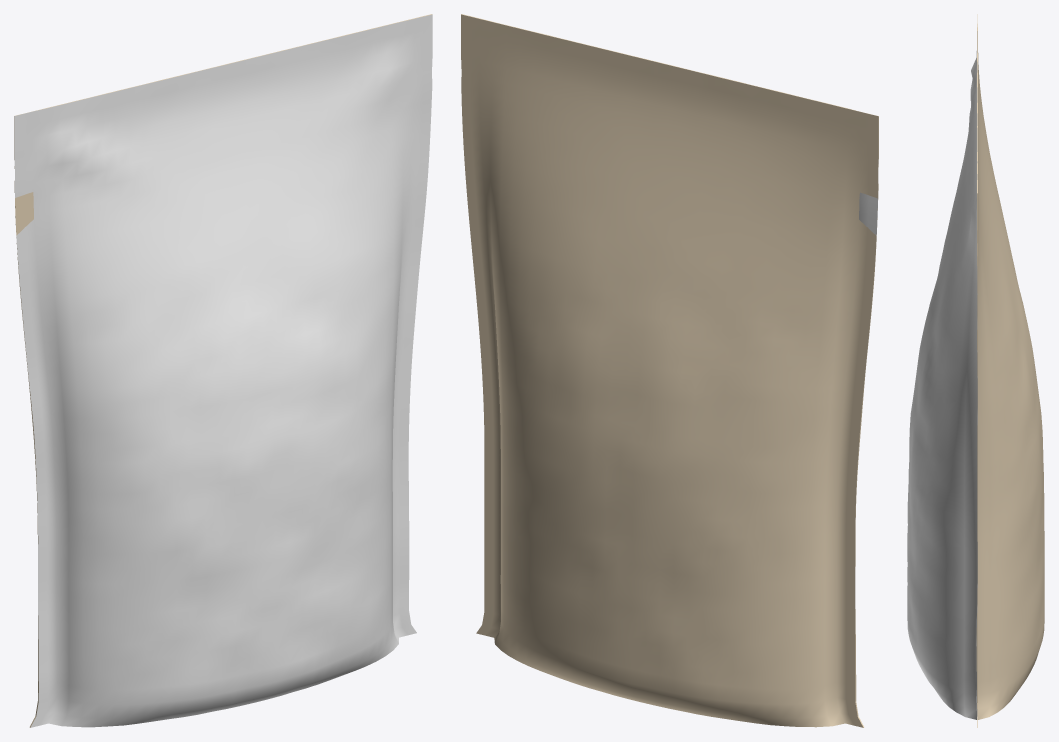
Rendered from pouch.glb.
3 renders of one model, left to right at view 1: azimuth 30°, elevation 25°; view 2: azimuth 150°, elevation 25°; view 3: azimuth 270°, elevation 25°, orthographic. The views are drawn at different scales.
Visible parts, largest first — view 1: pouch; view 2: pouch; view 3: pouch.
Boxes of the visible parts, x1=… form: pouch: x1=14, y1=14, x2=432, y2=727; pouch: x1=461, y1=14, x2=878, y2=727; pouch: x1=907, y1=14, x2=1044, y2=727.
Bounding box in the file's own units: 16 × 22.52 × 5.19.
